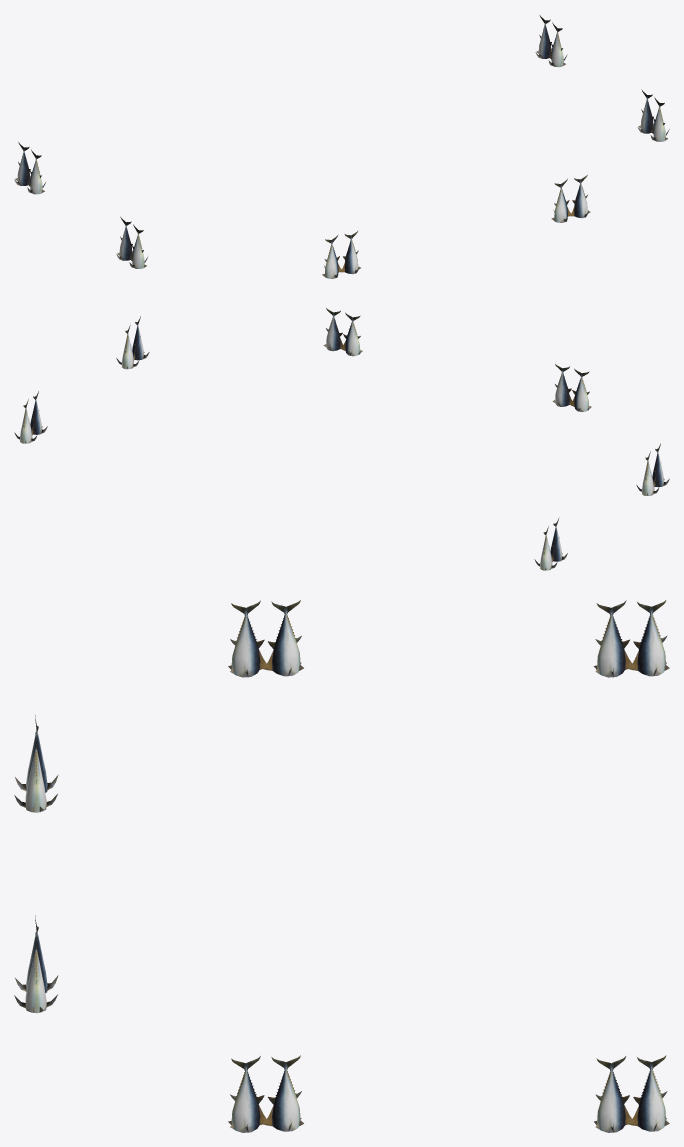
The model's file is tuna.009.dae.
The picture shows the model from 3 angles, top to bottom: view 1: azimuth 30°, elevation 25°; view 2: azimuth 150°, elevation 25°; view 3: azimuth 270°, elevation 25°; orthographic projection. The views are drawn at different scales.
Visible parts, largest first — view 1: tuna.009; view 2: tuna.009; view 3: tuna.009.
Boxes of the visible parts, x1,y1,x2,y2 form: tuna.009: (14,15,669,278); tuna.009: (14,308,669,570); tuna.009: (14,600,669,1132).
Bounding box in the file's own units: 31.71 × 18.5 × 2.25.
